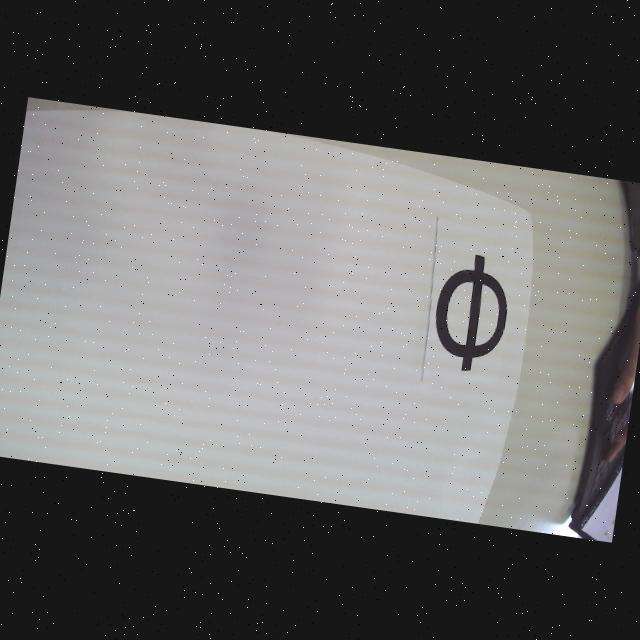PHI: (428, 250, 516, 376)
